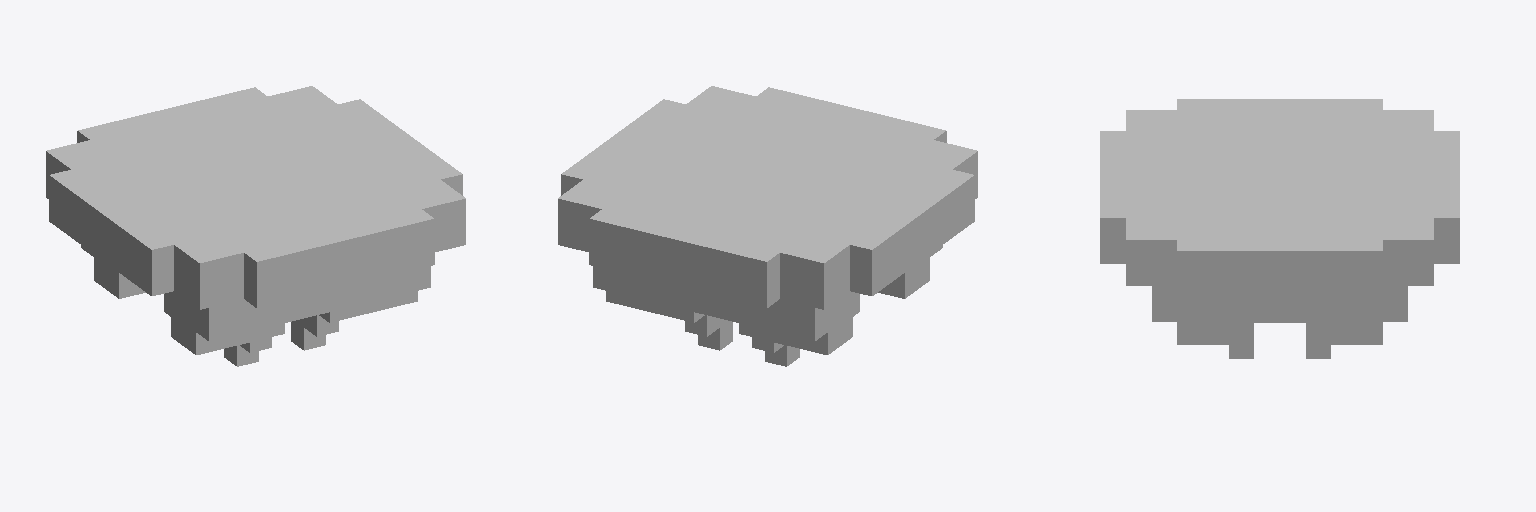
The model's file is platform.obj.
3 renders of one model, left to right at view 1: azimuth 30°, elevation 25°; view 2: azimuth 150°, elevation 25°; view 3: azimuth 270°, elevation 25°, orthographic.
Visible parts, largest first — view 1: object 1; view 2: object 1; view 3: object 1.
Part boxes in pixels (left/top/right/bottom): object 1: left=46, top=86, right=465, bottom=366; object 1: left=558, top=86, right=977, bottom=366; object 1: left=1100, top=99, right=1459, bottom=358.
Bounding box in the file's own units: 1.4 × 0.7 × 1.4.